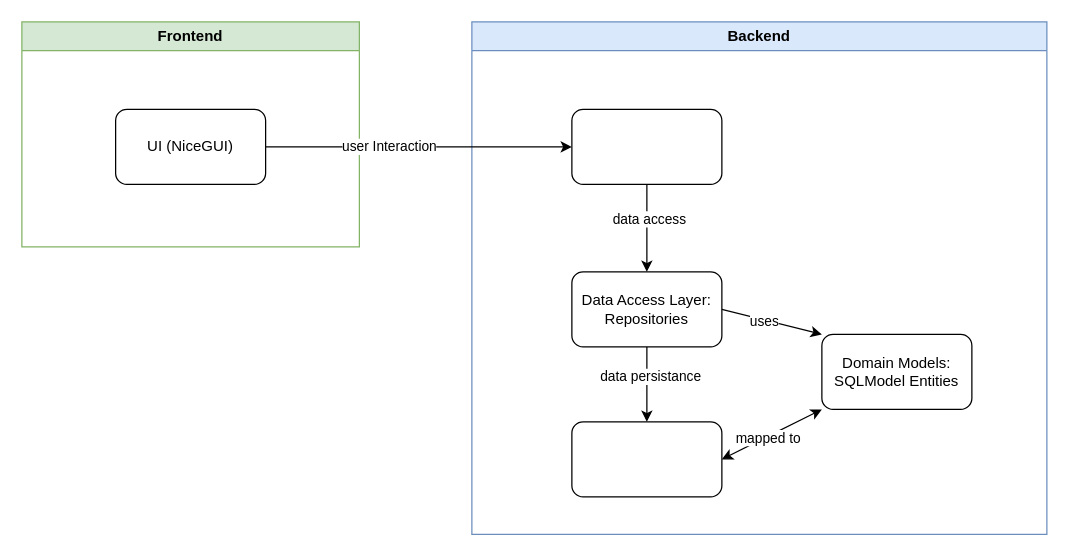
Some shapes in this 1069 by 556 pixel diagram are drawn without their labels. Here are the shapes that lost their labels. From the top down, the centre of each, then its label:
At point 646,146: "Business Logic: Services".
At point 646,459: "SQLite Database".
